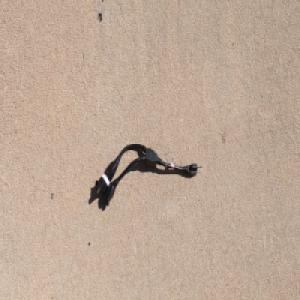Wire: (94, 142, 202, 207)
